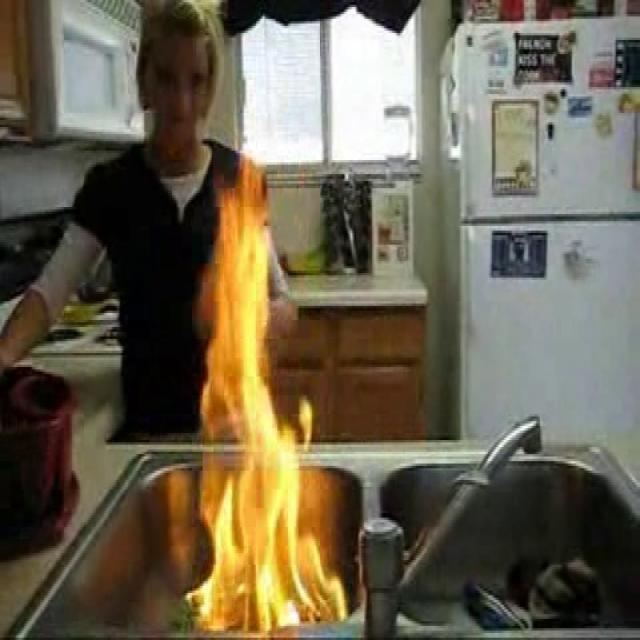Fire: (190, 175, 348, 640)
